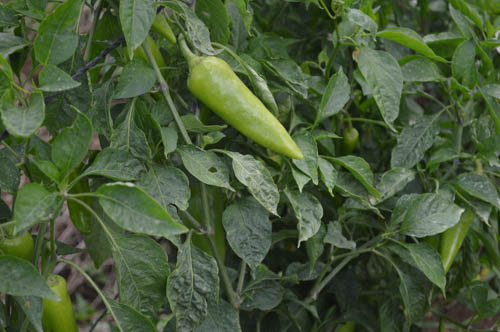ChiliPepper: (191, 57, 300, 158)
